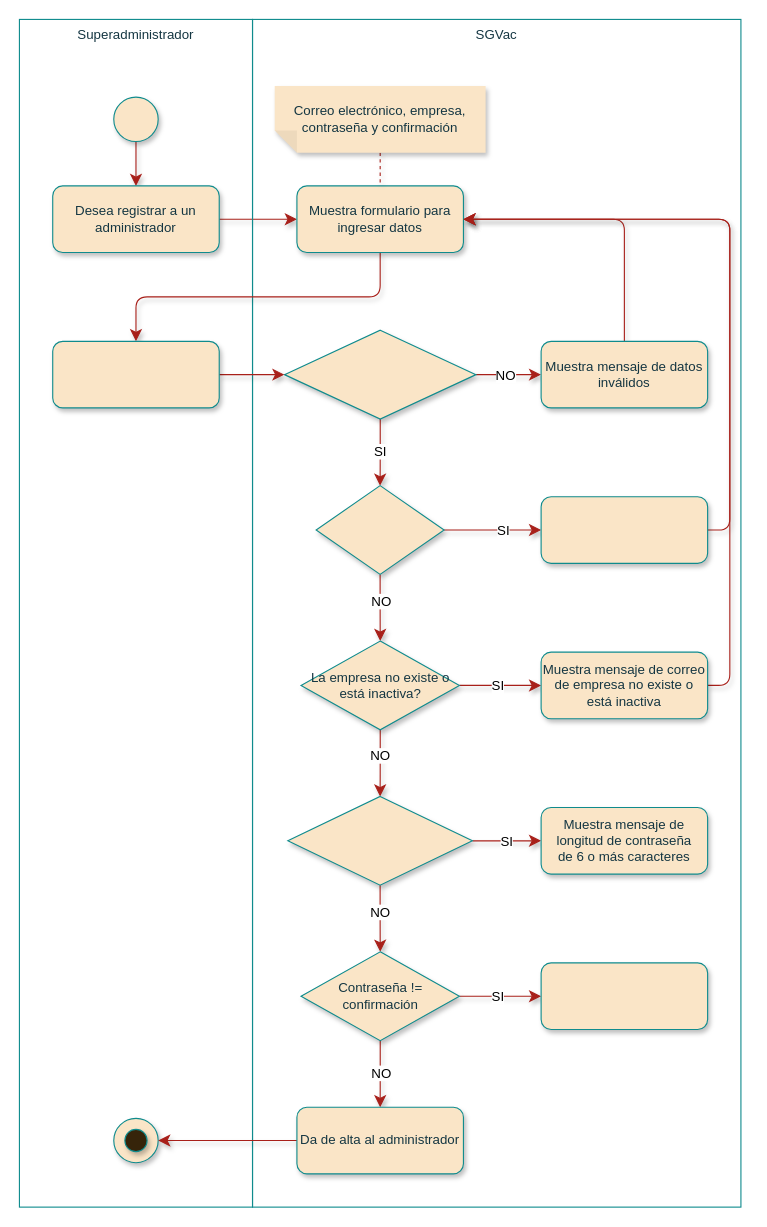
This 767x1227 diagram has some shape labels left out. Each missing label, with the centre of its shape:
Correo electrónico ya existe?: point 381,531
Ingresa datos: point 136,376
Ingresó correo, empresa y contraseña?: point 381,376
Longitud de contraseña < 6: point 380,842
Muestra mensaje de contraseñas no coinciden: point 625,997
Muestra mensaje de correo de administrador ya existe: point 625,531
